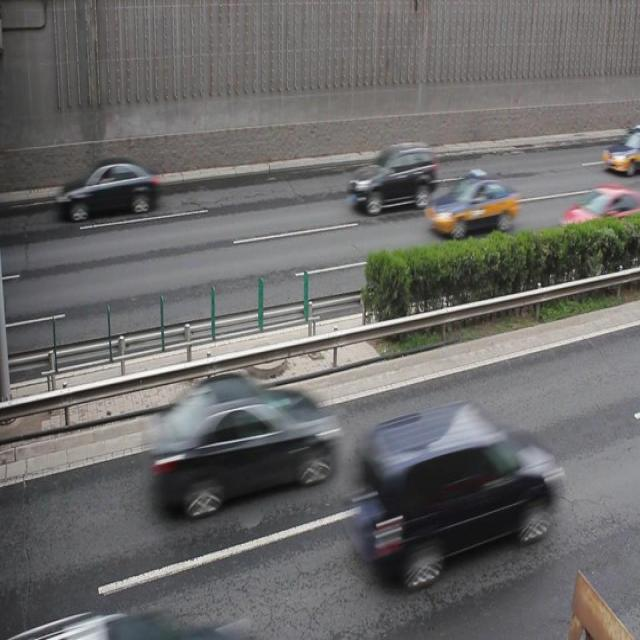car: (145, 370, 337, 518), (57, 154, 162, 222), (422, 170, 516, 240), (346, 141, 436, 213), (552, 186, 640, 253), (600, 127, 640, 175)
truck: (349, 403, 554, 585)
